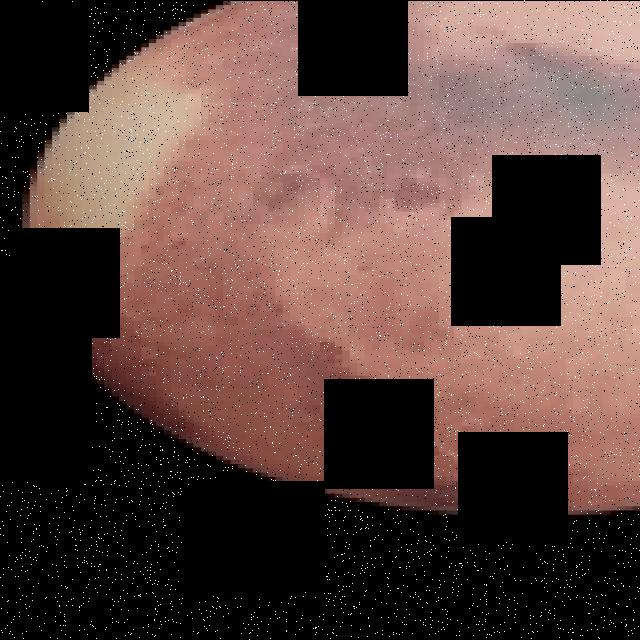Mars: (30, 0, 640, 518)
